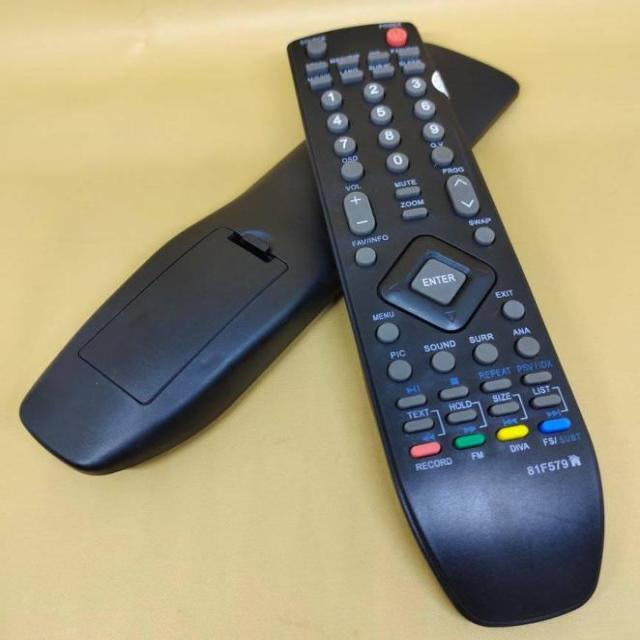remote: (15, 39, 524, 478), (290, 18, 603, 638)
